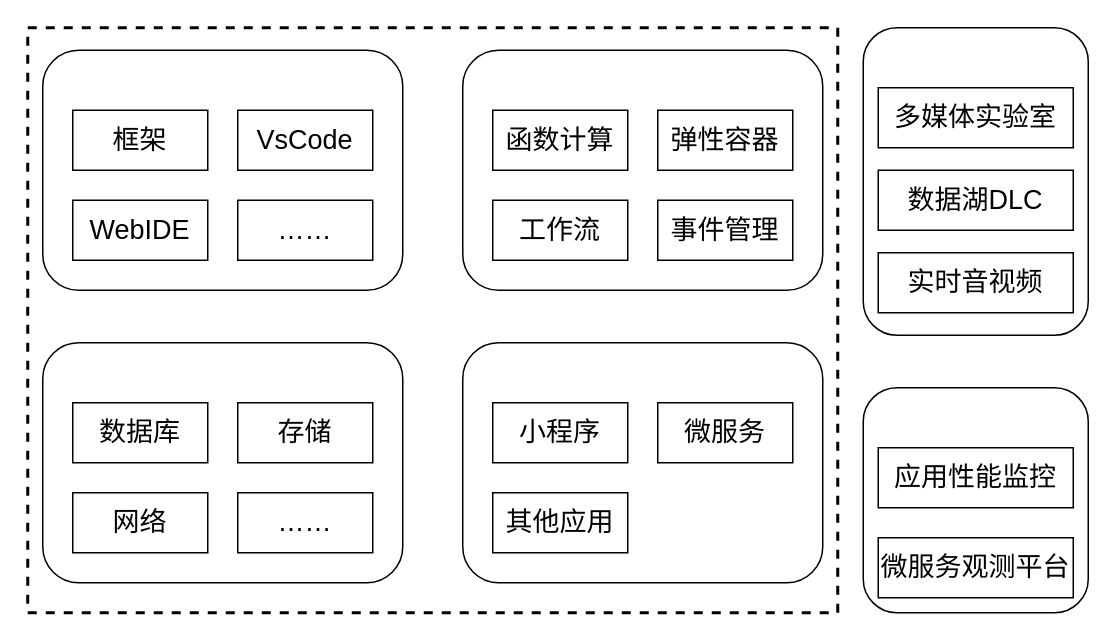
The diagram is 1115 pixels wide and 639 high, and some of its shapes have lost their labels. Each missing label, with the box of its shape:
Serverless应用生态: (461, 341, 823, 583)
Serverless计算层: (461, 49, 823, 290)
云服务集成: (862, 26, 1088, 335)
基础设施: (41, 341, 403, 583)
开发者套件: (41, 49, 403, 290)
监控排障: (862, 386, 1088, 613)
